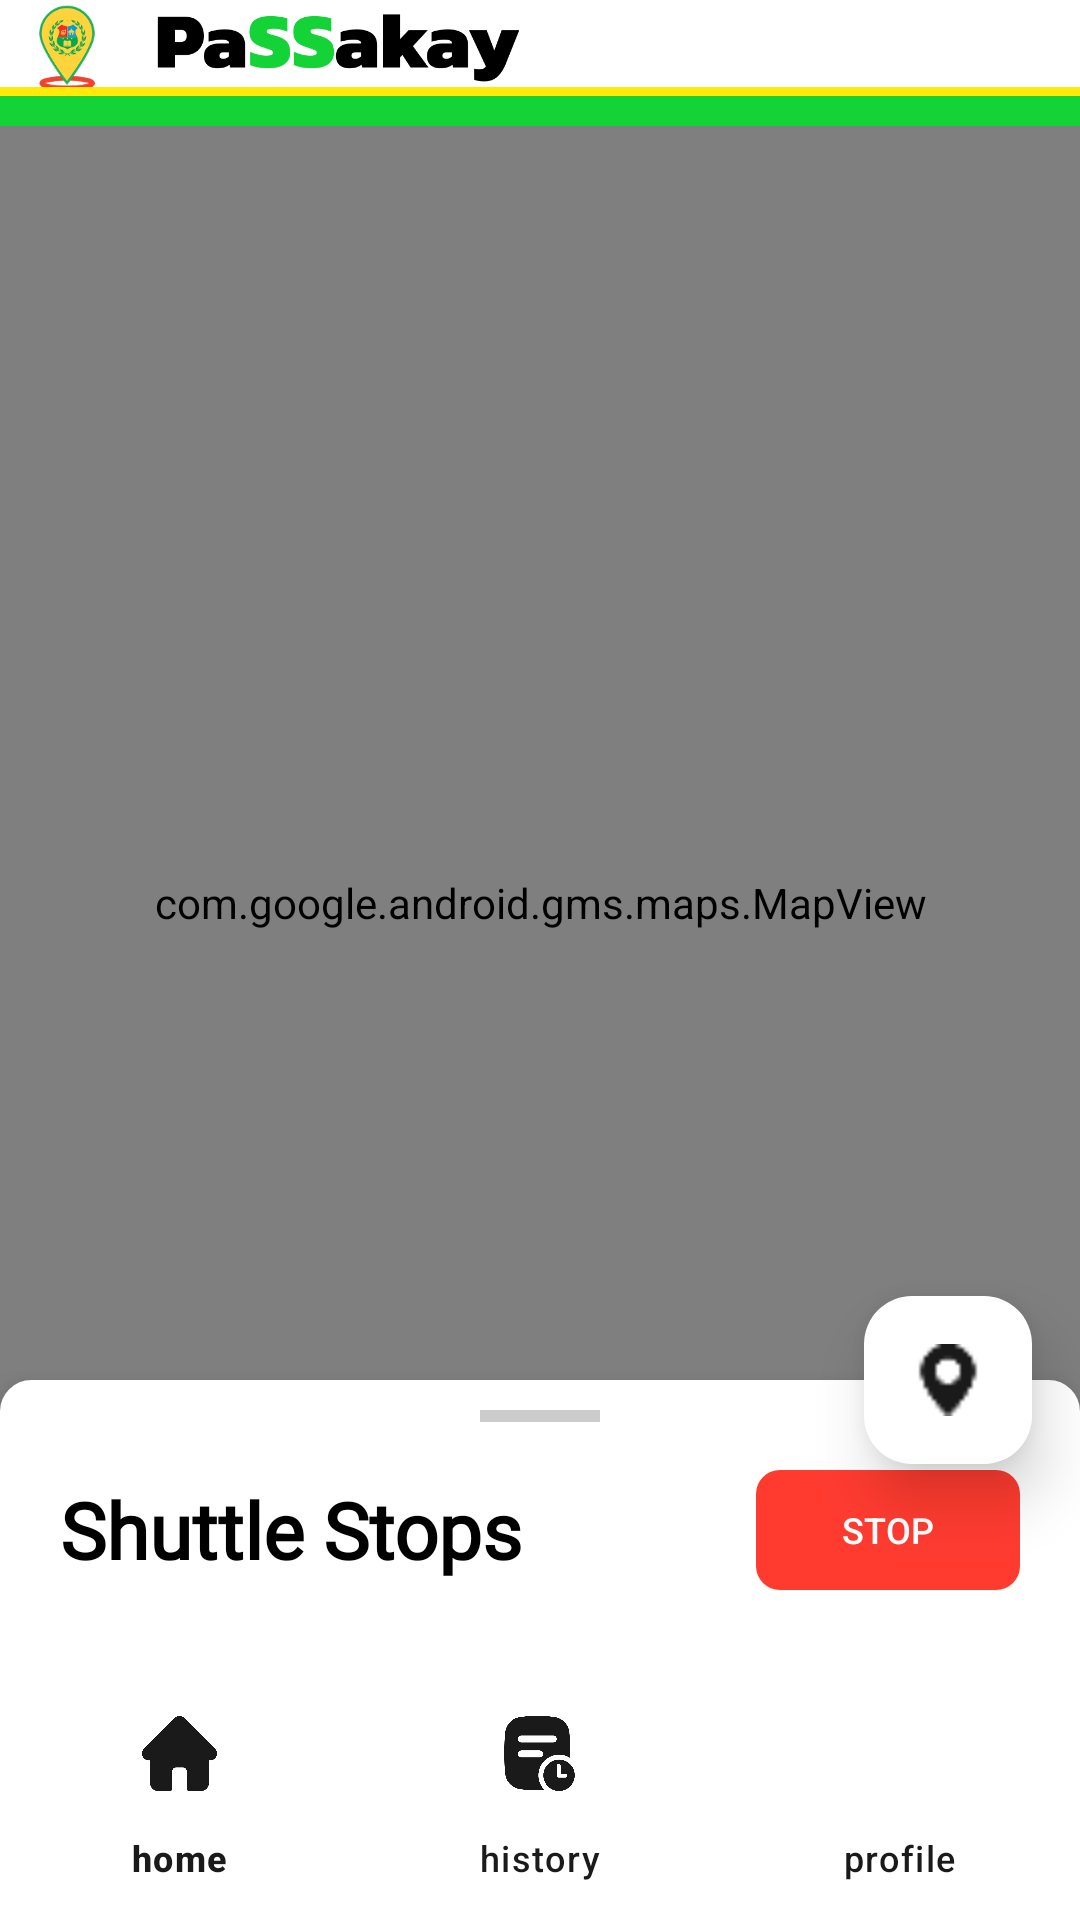

Where to tap for icons on this 1080px x 1920px app screen, as (x,y):
location pin: (948,1380)
